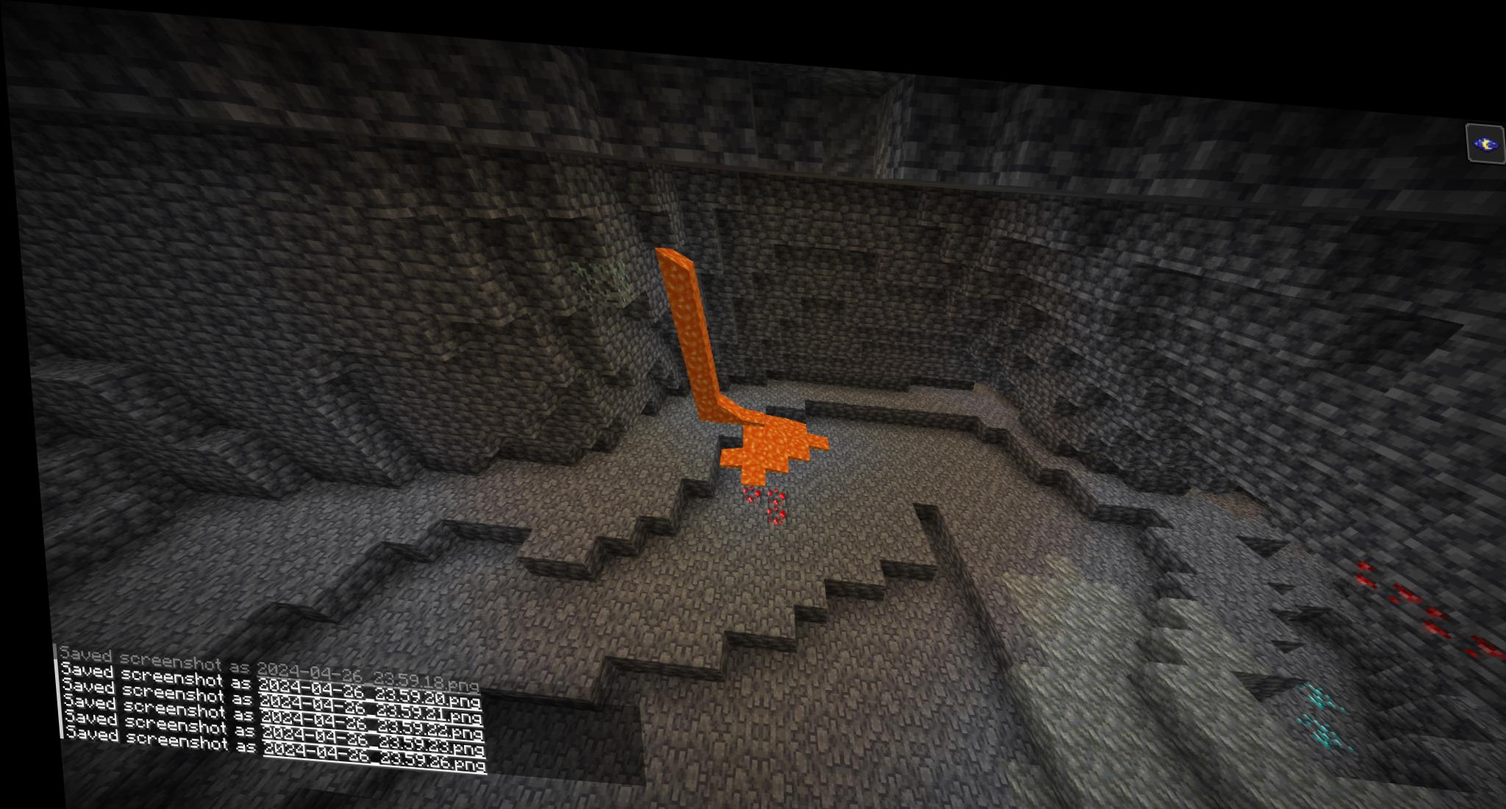diamond ore: (1282, 657, 1344, 738)
redstone ore: (1349, 535, 1496, 640), (732, 472, 778, 515)
